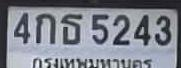2: (112, 14, 129, 44)
3: (154, 14, 170, 45)
4: (13, 12, 29, 43), (133, 14, 149, 45)
5: (91, 13, 108, 44)
A01: (35, 13, 55, 43)
A24: (60, 13, 82, 44)
BKK: (31, 56, 155, 68)
